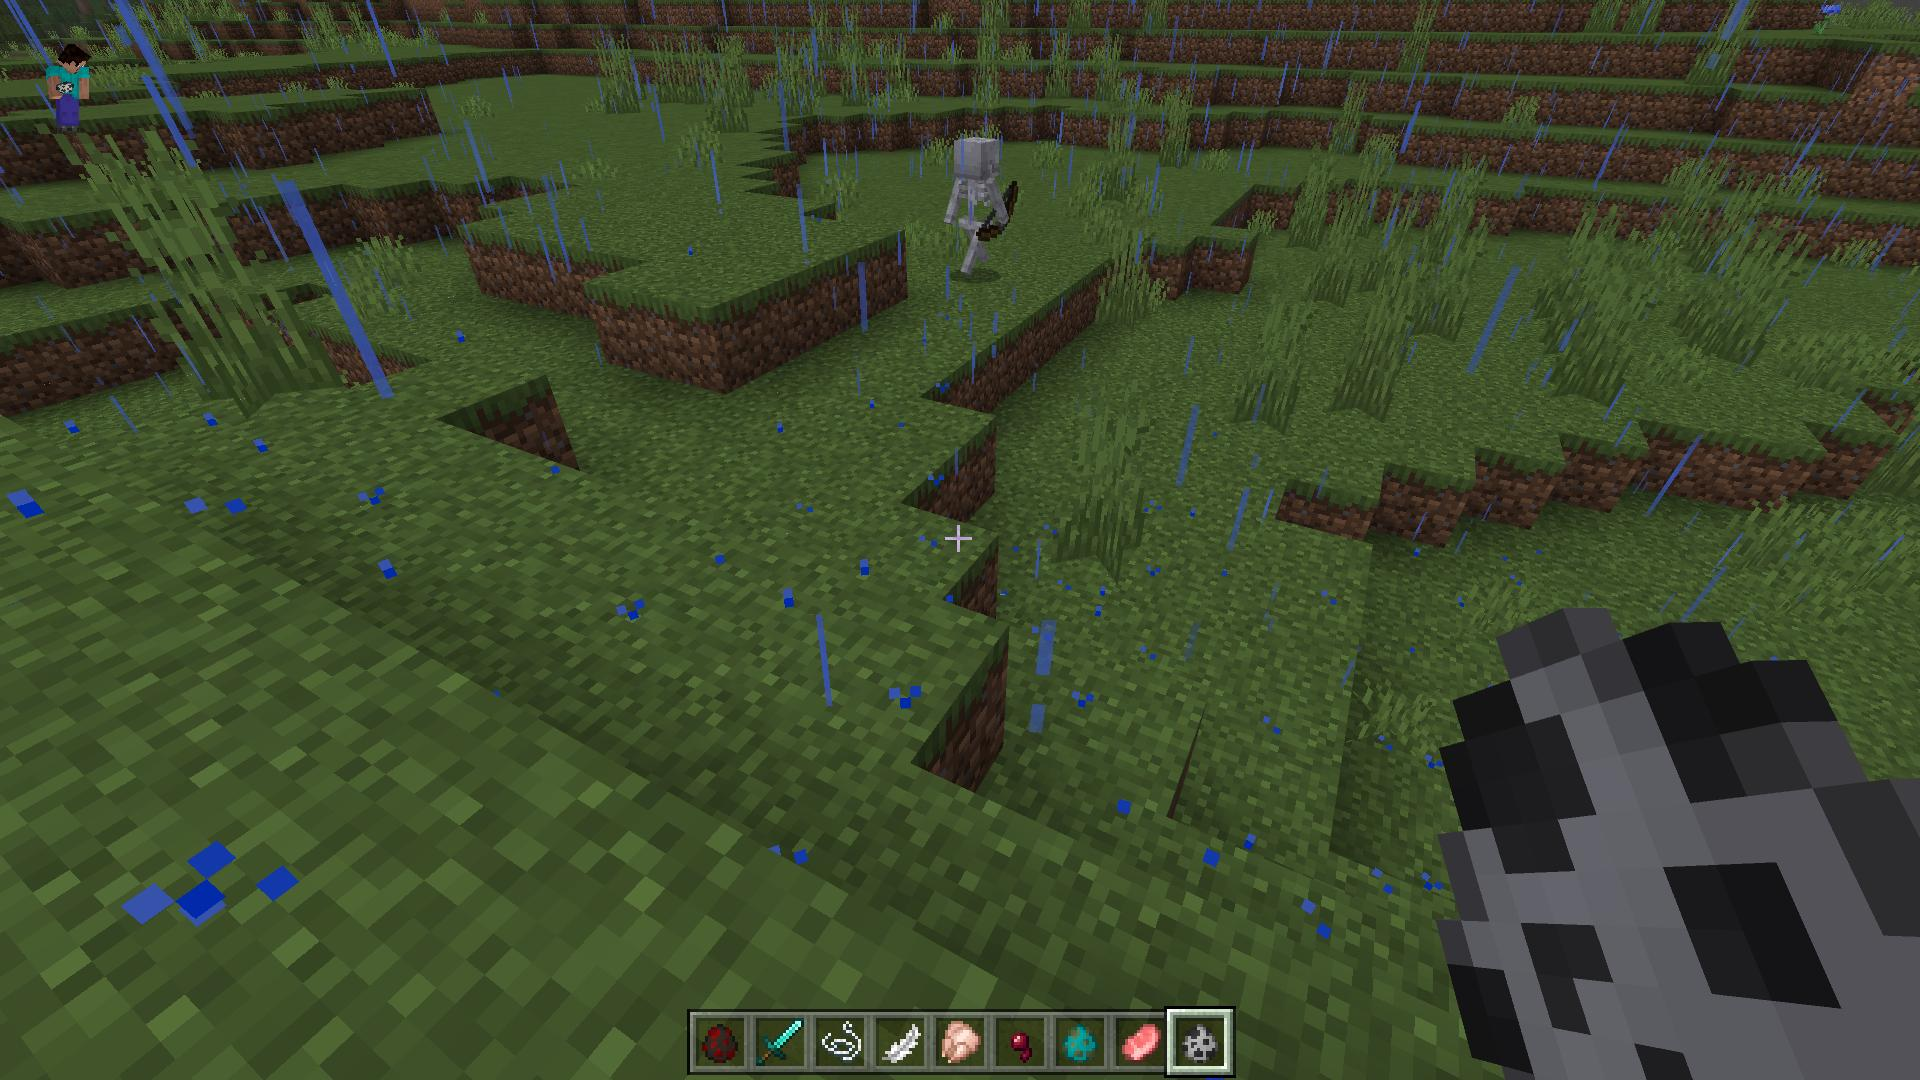skeleton: (939, 131, 1022, 282)
